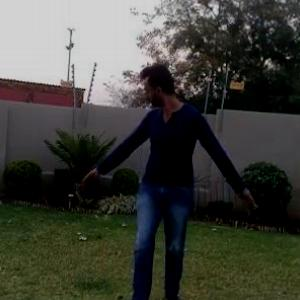land: (63, 60, 281, 299)
